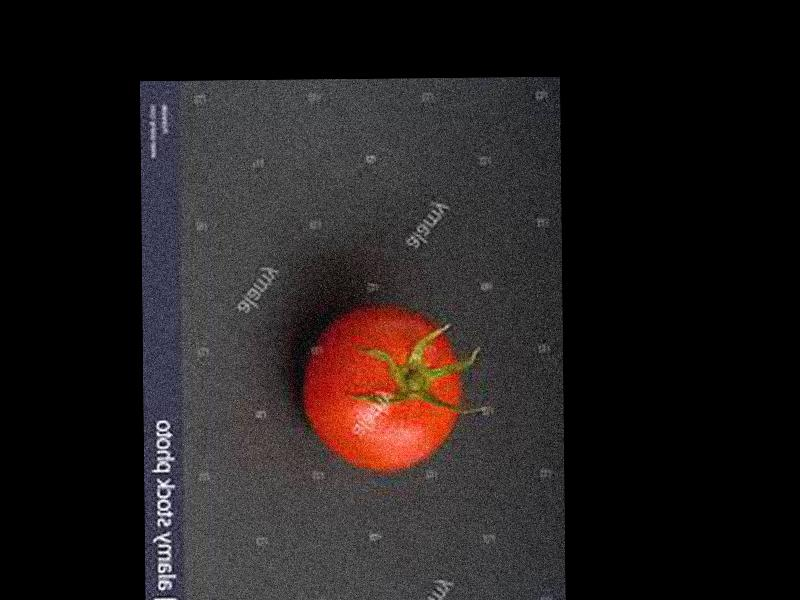Tomato: (308, 304, 463, 472)
